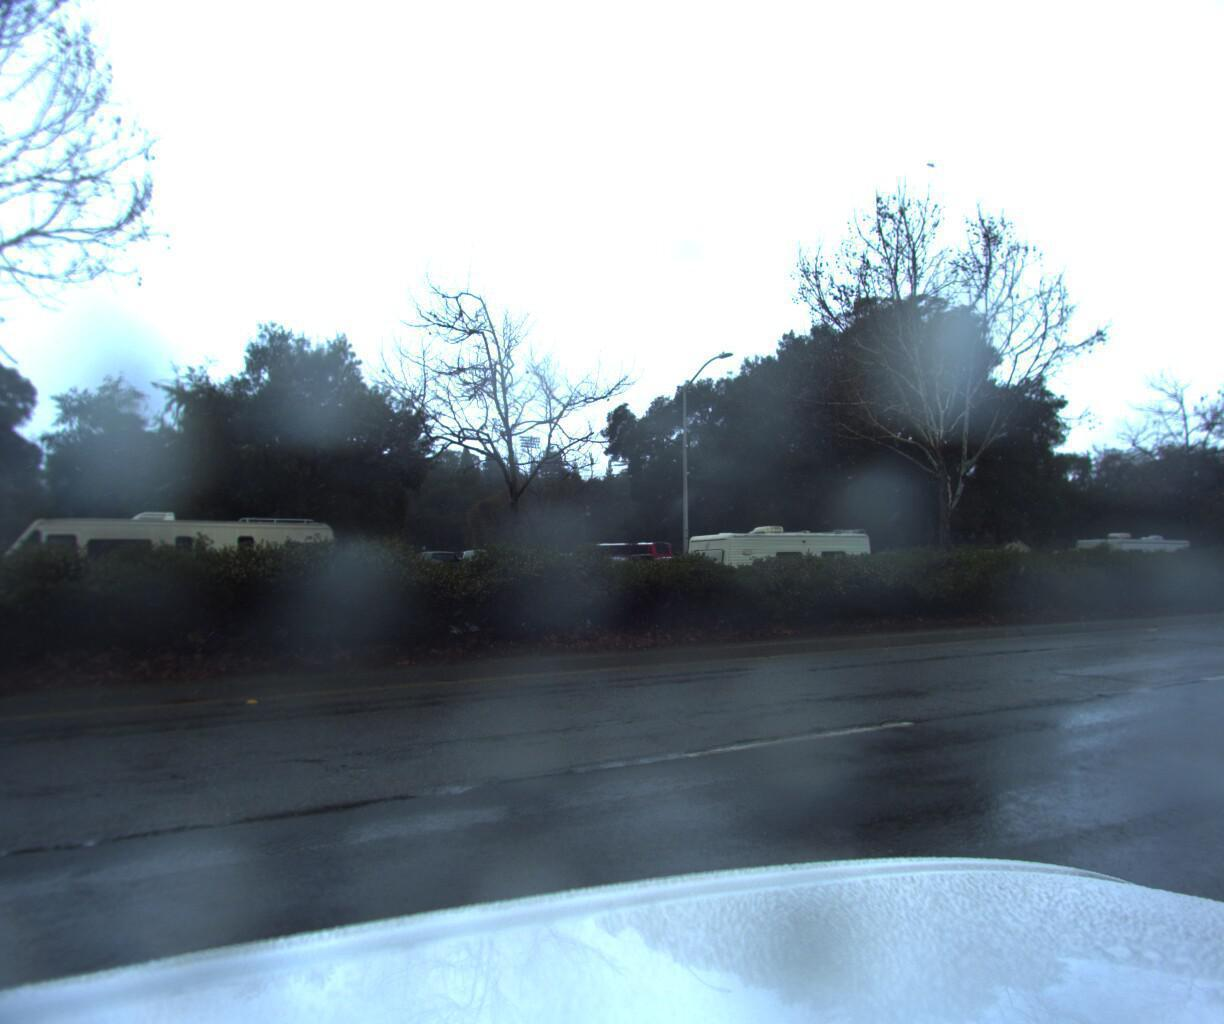other_vehicle: (0, 500, 346, 642), (675, 517, 886, 611), (1061, 522, 1206, 587)
